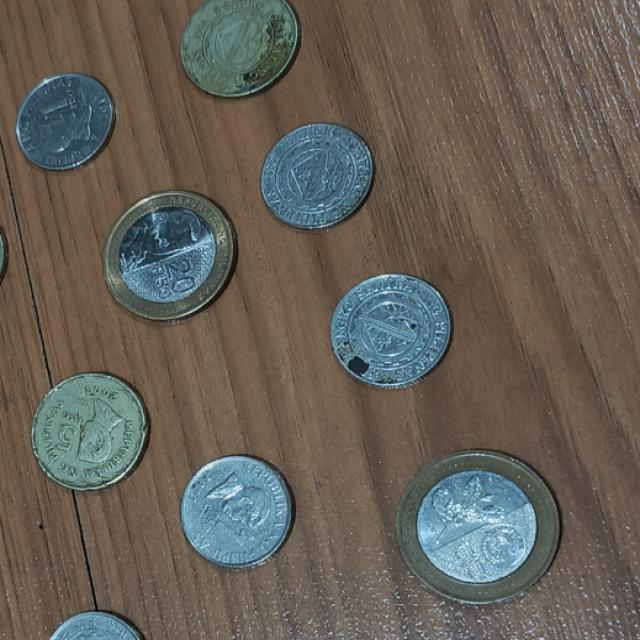1_peso: (332, 273, 448, 383), (261, 123, 372, 228), (183, 456, 287, 564), (16, 73, 113, 170)
20_peso: (398, 451, 559, 603), (104, 191, 234, 319)
5_peso: (32, 374, 147, 489), (181, 0, 298, 97)
